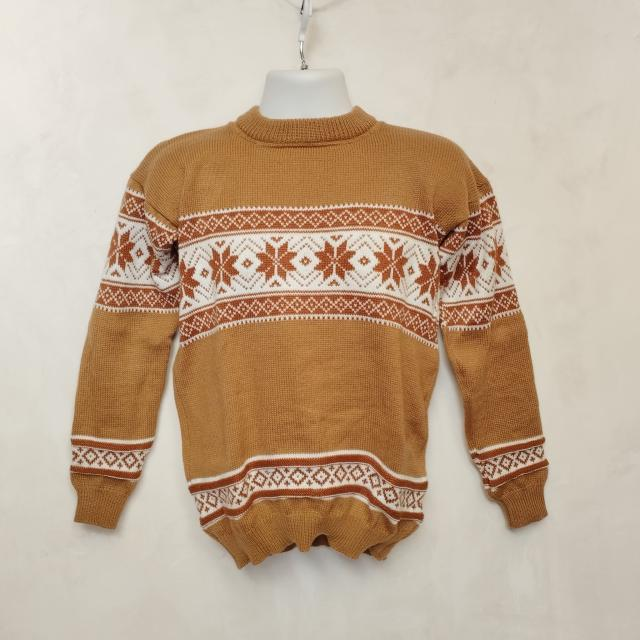Chompa: (69, 68, 550, 569)
